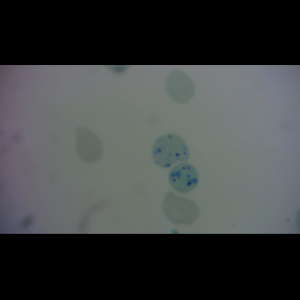aggregate reticulocyte: (151, 133, 191, 169), (169, 163, 200, 194)
erythrocyte: (160, 191, 201, 228), (74, 124, 104, 165), (164, 70, 197, 105)
